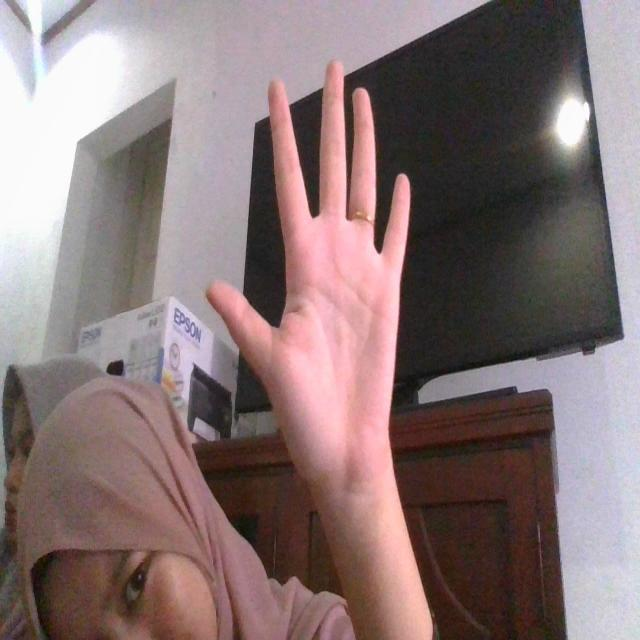hand: (192, 4, 428, 552)
